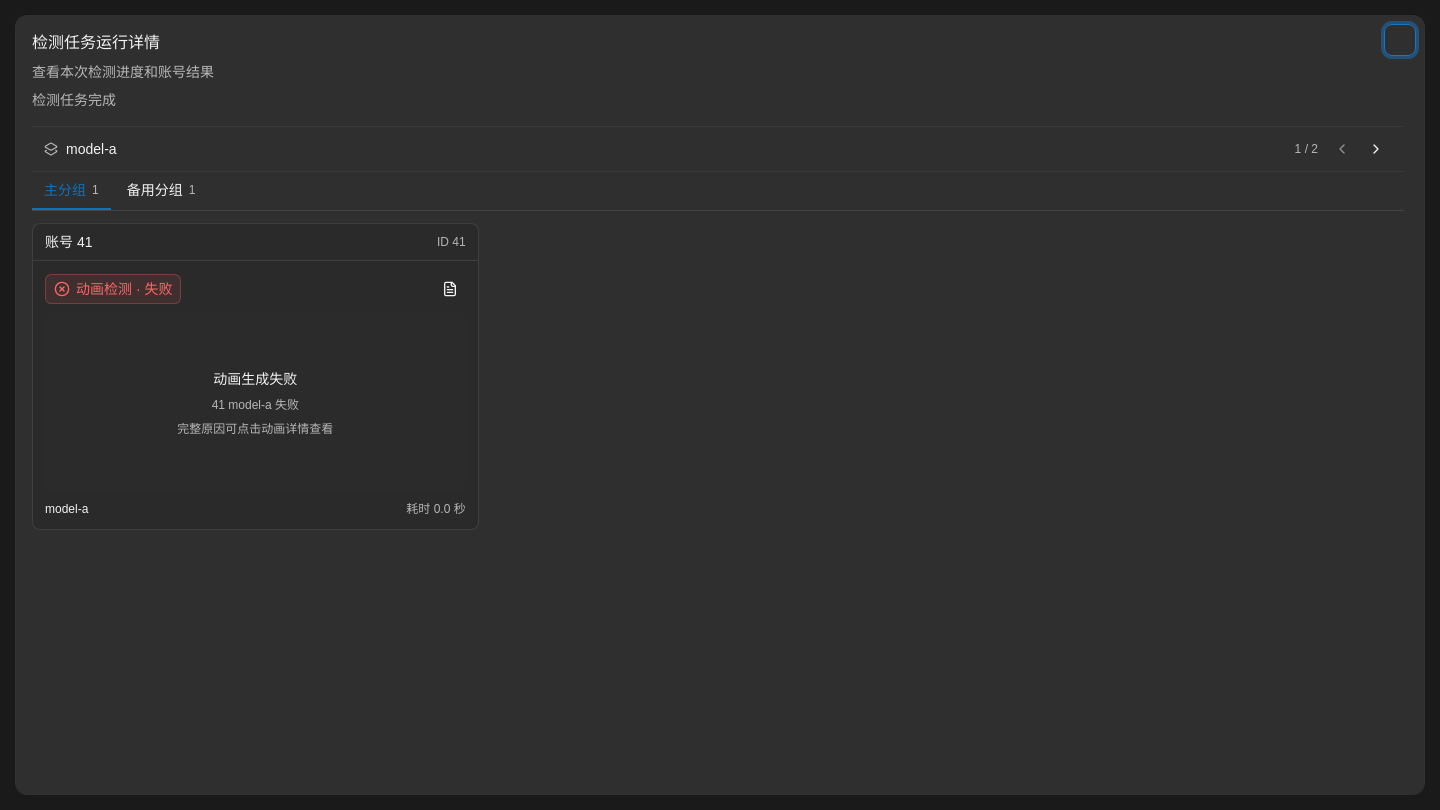
it: 顶部切换模型后跨分组保留选择，另一分组也显示同一模型结果
Click the button named "下一个模型结果".
click(1376, 149)  # box top-left (1360, 133), bottom-right (1392, 165)
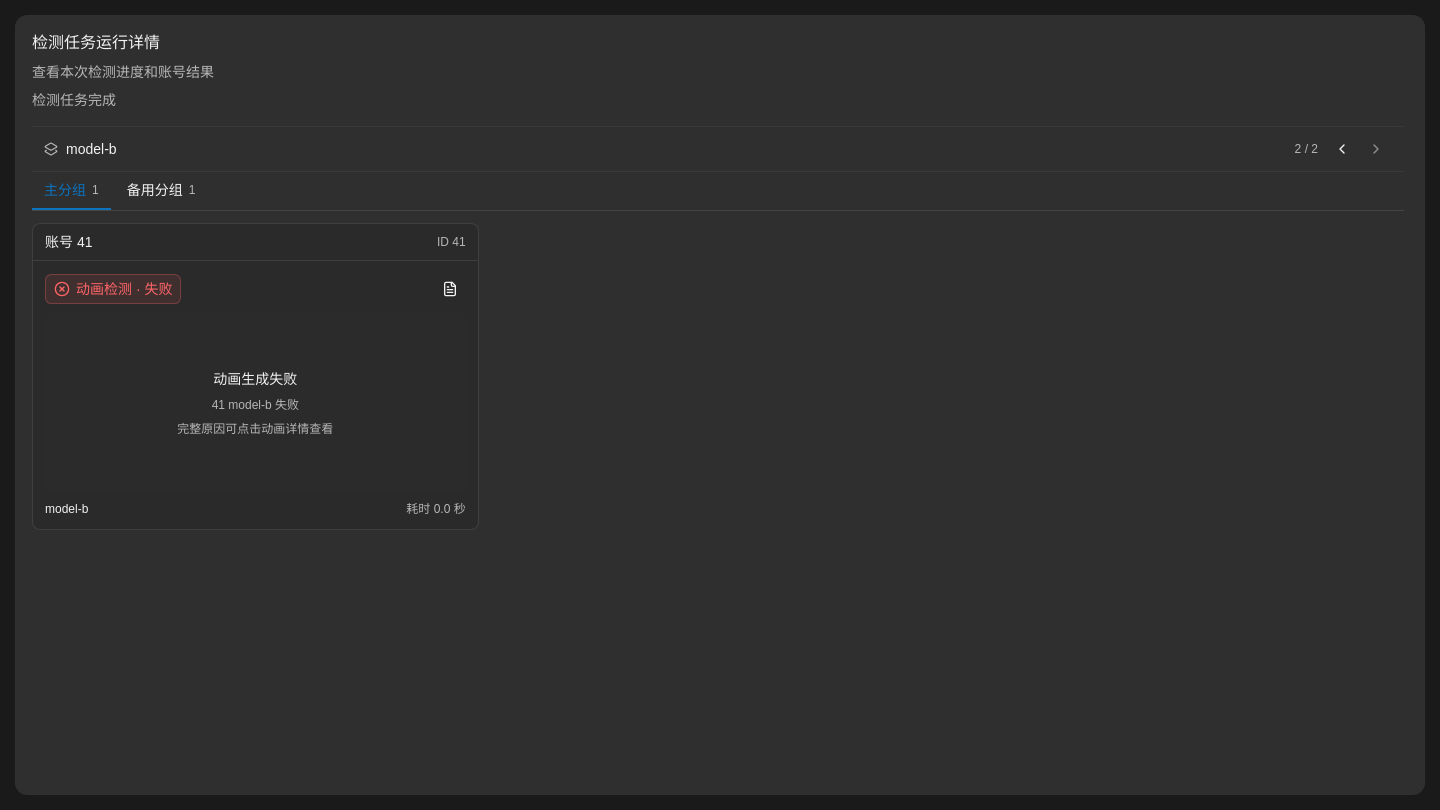
Now the text "41 model-b 失败" is shown, box top-left (212, 397), bottom-right (299, 413)
Click the tab "备用分组 1".
click(161, 191)  # box top-left (115, 172), bottom-right (207, 210)
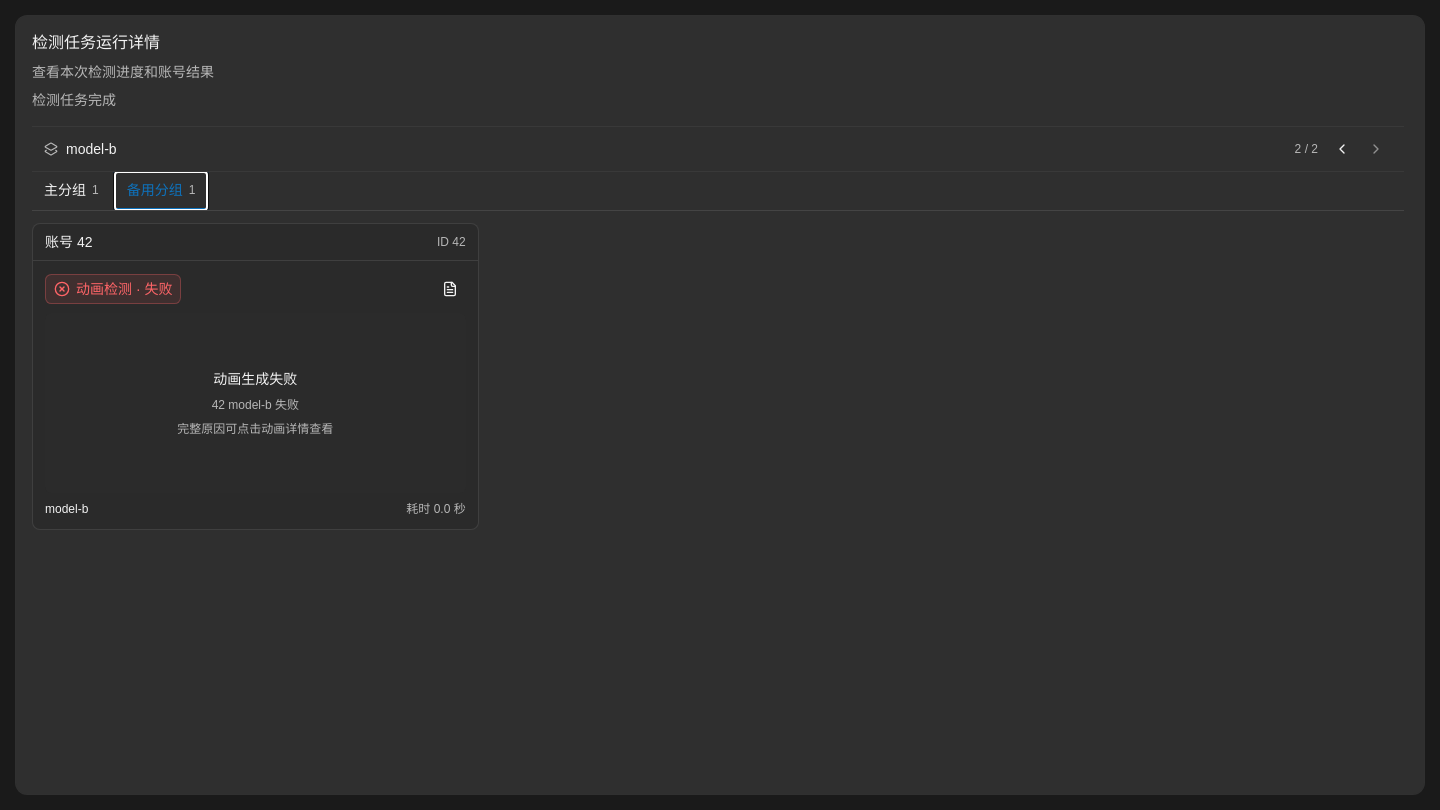
Expected: the number of elements named "结果模型" is 1, top-left (32, 126), bottom-right (1404, 172)
Now the text "42 model-b 失败" is shown, box top-left (212, 397), bottom-right (299, 413)
